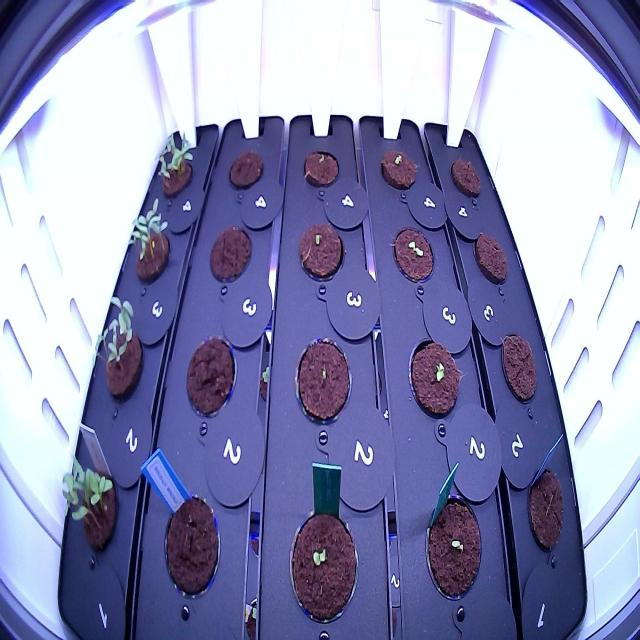germination: (284, 498, 366, 633), (53, 440, 124, 568), (84, 281, 148, 412), (421, 481, 487, 607), (402, 330, 468, 432), (120, 192, 174, 292), (148, 125, 203, 207), (292, 213, 349, 289), (388, 221, 441, 298), (372, 140, 422, 201), (300, 142, 344, 194)
pod: (161, 490, 224, 604), (289, 330, 356, 430), (182, 328, 240, 427), (521, 463, 569, 560), (494, 327, 542, 411), (205, 216, 253, 295), (467, 219, 515, 292), (444, 147, 489, 210), (223, 146, 268, 198)
